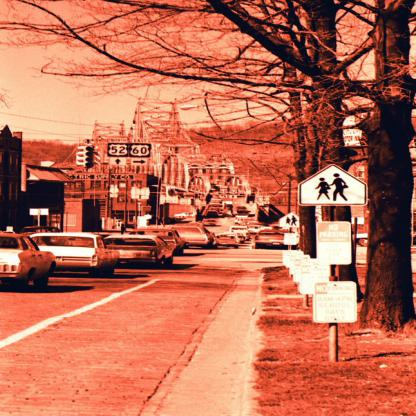Car: (0, 193, 290, 290)
